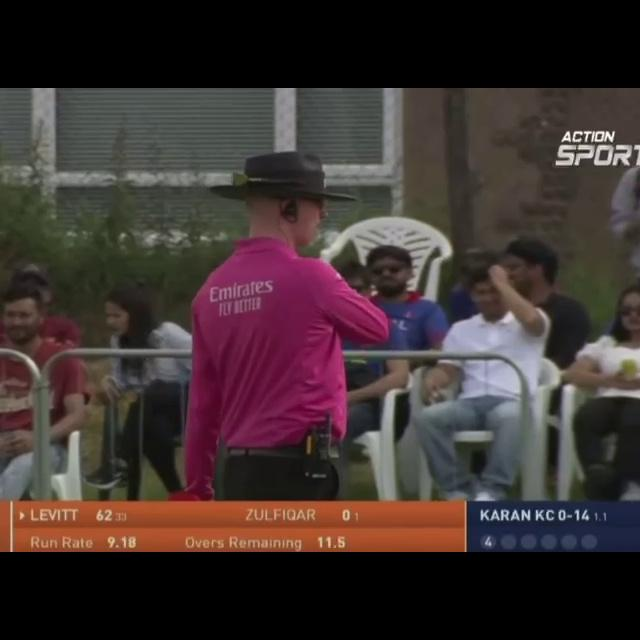umpire: (153, 136, 438, 501)
